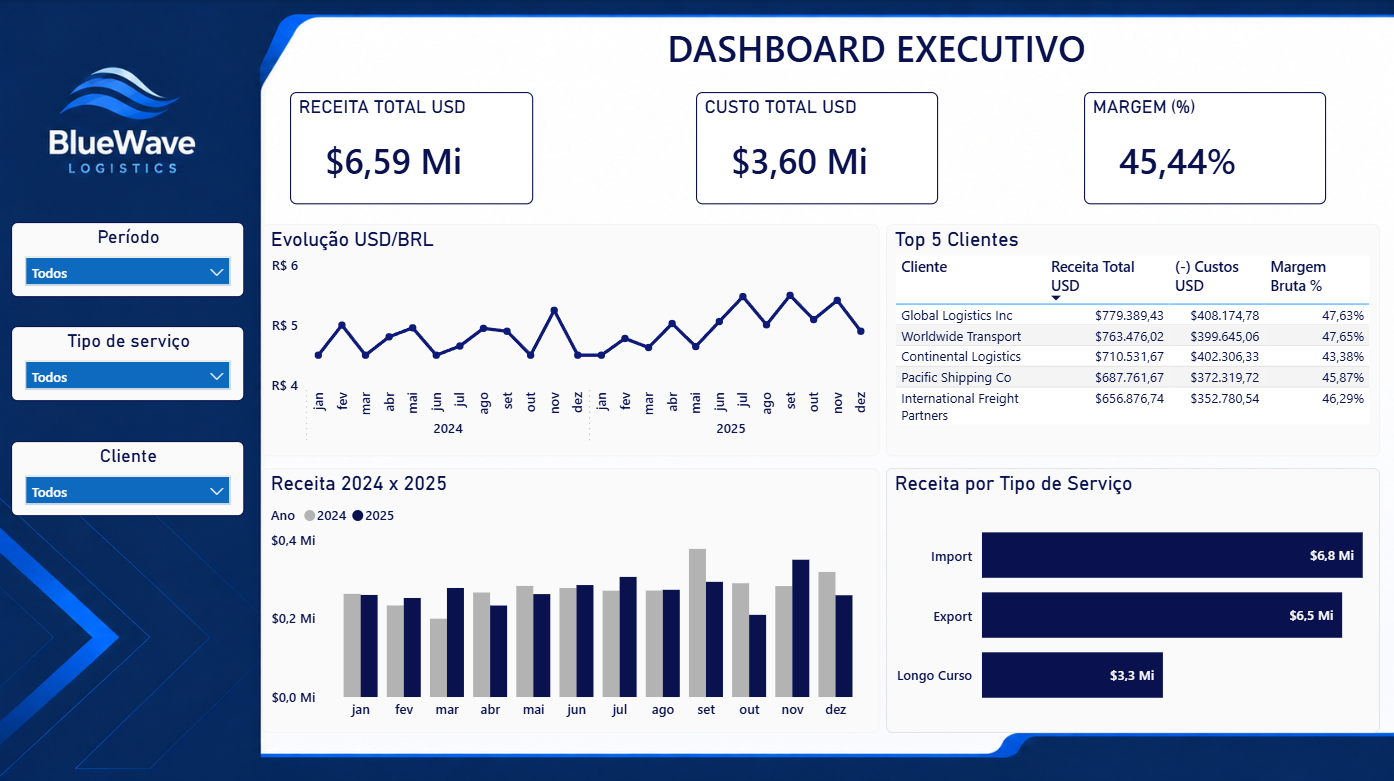

The page's visual inventory and layout, read from the dashboard file:
{"tool":"powerbi","page":{"name":"Dashboard Executivo","canvas":[1280,720],"ordinal":1},"visuals":[{"type":"cardVisual","title":"RECEITA TOTAL USD","fields":{"Data":["Medidas.Receita Total USD"]},"box":[267.3,84,222.8,102.7],"z":0},{"type":"cardVisual","title":"CUSTO TOTAL USD","fields":{"Data":["Medidas.(-) Custos USD"]},"box":[640,84.4,221.9,102.7],"z":1000},{"type":"cardVisual","title":"MARGEM (%)","fields":{"Data":["Medidas.Margem Bruta %"]},"box":[995.8,84.4,221.9,102.7],"z":2000},{"type":"lineChart","title":"Evolução USD/BRL ","fields":{"Category":["Calendario.Ano","Calendario.Mes"],"Y":["Medidas.Última Cotação Mês"]},"box":[240.1,205.3,565.6,212.6],"z":3000},{"type":"clusteredColumnChart","title":"Receita 2024 x 2025","fields":{"Category":["Calendario.Mes"],"Series":["Calendario.Ano"],"Y":["Medidas.Receita Total USD"]},"box":[240.2,429.1,565.7,243],"z":4000},{"type":"clusteredBarChart","title":"Receita por Tipo de Serviço","fields":{"Category":["APURACAO_SERVICOS.Tipo_serviço"],"Y":["Sum(APURACAO_SERVICOS.Receita_usd)"]},"box":[814.2,429.1,453,243],"z":5000},{"type":"tableEx","title":"Top 5 Clientes","fields":{"Values":["CLIENTES.nome","Medidas.Receita Total USD","Medidas.(-) Custos USD","Medidas.Margem Bruta %"]},"box":[814.2,205.3,452.9,212.6],"z":6000},{"type":"slicer","title":"Período","fields":{"Values":["Calendario.AnoMes"]},"box":[8.5,160.5,213.7,69.1],"z":7000},{"type":"slicer","title":"Tipo de serviço","fields":{"Values":["DimTipoServico.tipo_servico"]},"box":[8.5,255.1,213.7,69.1],"z":8000},{"type":"slicer","title":"Cliente","fields":{"Values":["CLIENTES.nome"]},"box":[8.5,360.4,213.7,69.1],"z":9000},{"type":"shape","box":[609.7,21.1,391.5,41.3],"z":10000}]}

Visuals, with their boxes in screenshot pixels (x1, y1, x2, y2), scaled from the page's 1280x720 canvas onto the 1394x781 screenshot:
"RECEITA TOTAL USD" cardVisual: {"x1": 291, "y1": 91, "x2": 534, "y2": 203}
"CUSTO TOTAL USD" cardVisual: {"x1": 697, "y1": 92, "x2": 939, "y2": 203}
"MARGEM (%)" cardVisual: {"x1": 1084, "y1": 92, "x2": 1326, "y2": 203}
"Evolução USD/BRL " lineChart: {"x1": 261, "y1": 223, "x2": 877, "y2": 453}
"Receita 2024 x 2025" clusteredColumnChart: {"x1": 262, "y1": 465, "x2": 878, "y2": 729}
"Receita por Tipo de Serviço" clusteredBarChart: {"x1": 887, "y1": 465, "x2": 1380, "y2": 729}
"Top 5 Clientes" tableEx: {"x1": 887, "y1": 223, "x2": 1380, "y2": 453}
"Período" slicer: {"x1": 9, "y1": 174, "x2": 242, "y2": 249}
"Tipo de serviço" slicer: {"x1": 9, "y1": 277, "x2": 242, "y2": 352}
"Cliente" slicer: {"x1": 9, "y1": 391, "x2": 242, "y2": 466}
shape: {"x1": 664, "y1": 23, "x2": 1090, "y2": 68}
